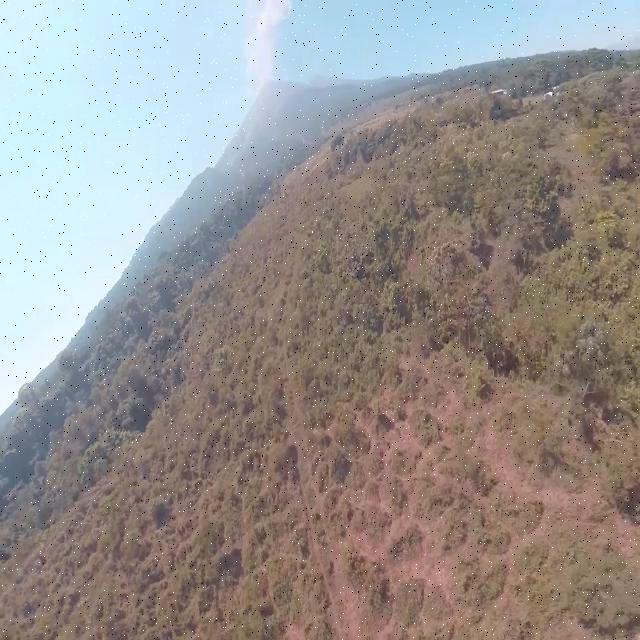Plume: (242, 0, 298, 88)
